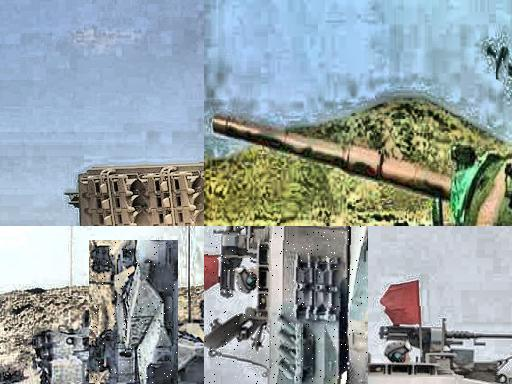tanks: (216, 119, 512, 227), (205, 227, 368, 384), (90, 244, 179, 384), (75, 164, 205, 227), (497, 50, 509, 76), (399, 226, 401, 227)
